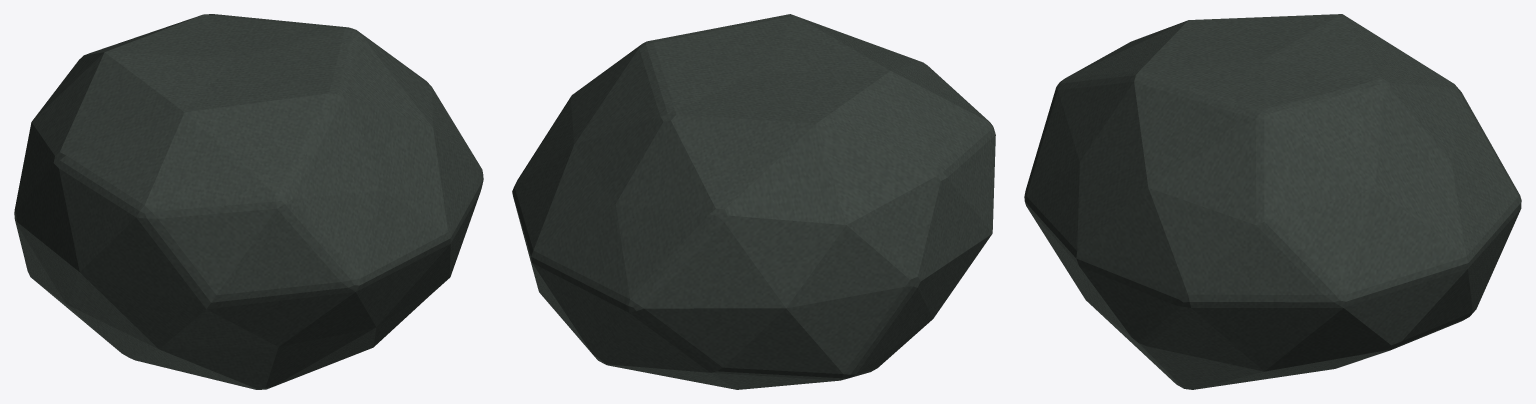
Rendered from stone.glb.
3 views of the same model, side by side, from view 1: azimuth 30°, elevation 25°; view 2: azimuth 150°, elevation 25°; view 3: azimuth 270°, elevation 25° (orthographic).
Visible parts, largest first — view 1: Stone; view 2: Stone; view 3: Stone.
Boxes of the visible parts, x1=… form: Stone: x1=14, y1=14, x2=483, y2=389; Stone: x1=512, y1=14, x2=995, y2=389; Stone: x1=1024, y1=14, x2=1521, y2=389.
Bounding box in the file's own units: 0.9748 × 0.7024 × 1.04.
Materials: 1 (1 with a texture image).
